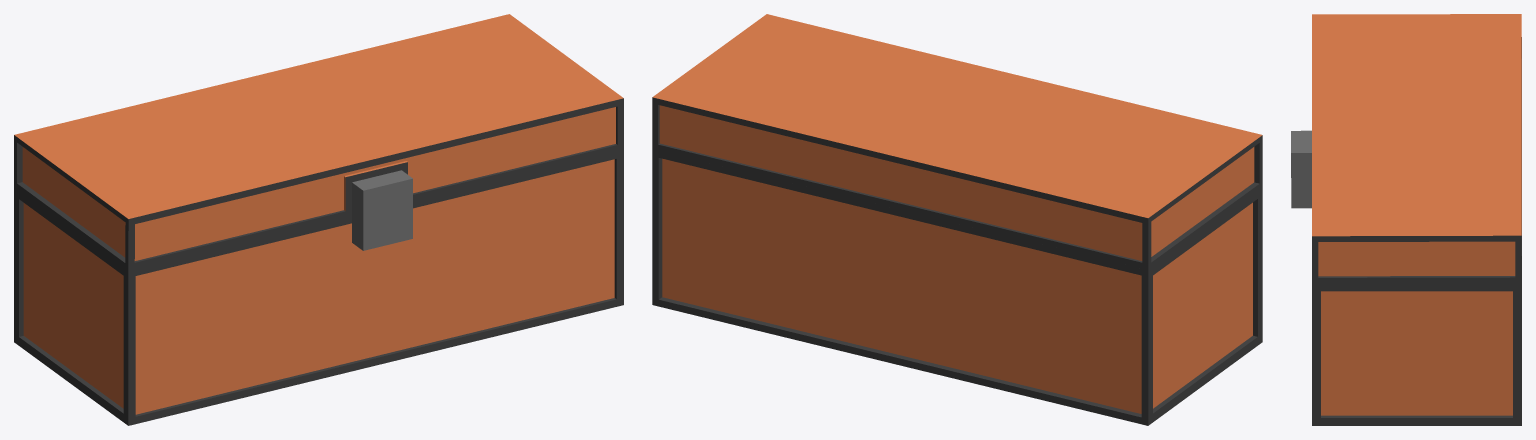
Rendered from ChestWithJason.fbx.
The picture shows the model from 3 angles, left to right: view 1: azimuth 30°, elevation 25°; view 2: azimuth 150°, elevation 25°; view 3: azimuth 270°, elevation 25°; orthographic projection. The views are drawn at different scales.
Visible parts, largest first — view 1: Chest1, Chest2; view 2: Chest1, Chest2; view 3: Chest2, Chest1.
Part boxes in pixels (x1,y1,x2,y2): Chest1: [14, 150, 623, 425]; Chest2: [14, 14, 623, 270]; Chest1: [652, 149, 1262, 425]; Chest2: [652, 14, 1262, 269]; Chest2: [1291, 14, 1521, 283]; Chest1: [1312, 283, 1521, 425].
Bounding box in the file's own units: 500 × 200 × 220.
